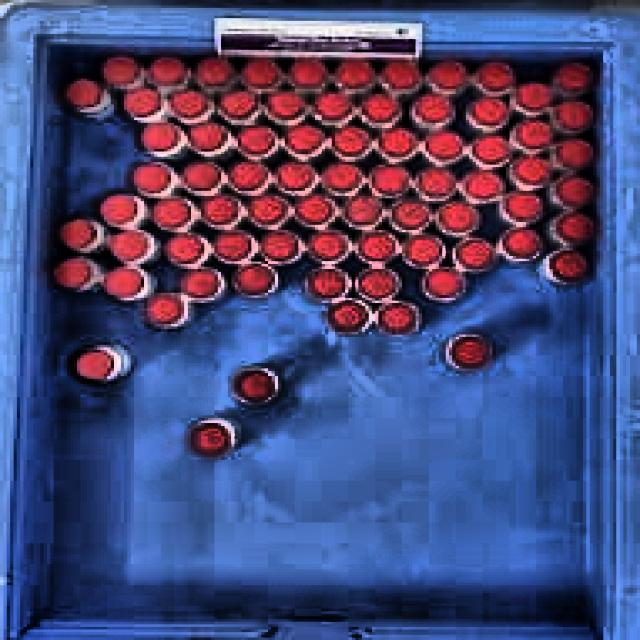vial: (69, 348, 119, 383), (189, 421, 234, 459), (146, 196, 194, 231), (230, 369, 276, 405), (51, 219, 98, 254), (107, 226, 151, 263), (552, 211, 598, 246), (98, 51, 144, 86), (231, 264, 279, 297), (273, 159, 317, 195), (500, 227, 545, 262), (61, 78, 107, 112), (450, 333, 492, 370), (423, 265, 467, 300), (436, 200, 480, 235), (304, 229, 350, 262), (163, 232, 209, 265), (415, 165, 458, 200), (100, 266, 148, 297), (197, 193, 242, 226), (236, 56, 281, 89), (51, 256, 93, 291), (139, 120, 182, 154), (304, 268, 348, 301), (548, 249, 592, 282), (500, 191, 544, 224), (555, 174, 599, 207), (184, 120, 228, 153), (178, 267, 223, 299), (388, 198, 430, 232), (426, 58, 468, 92), (355, 267, 398, 300), (98, 192, 141, 225), (285, 122, 328, 155), (226, 160, 269, 193), (212, 229, 256, 261), (246, 195, 290, 227), (341, 194, 386, 225), (377, 124, 418, 158), (147, 52, 188, 86), (556, 137, 598, 170), (121, 85, 163, 118), (473, 60, 515, 93), (320, 161, 363, 193), (368, 164, 411, 196), (127, 162, 171, 193), (376, 301, 417, 334), (236, 124, 277, 157), (380, 58, 421, 91), (286, 57, 327, 90), (509, 153, 551, 185), (467, 97, 509, 129), (178, 160, 221, 191), (469, 135, 512, 166), (328, 299, 368, 332), (556, 97, 596, 130), (514, 117, 554, 150), (403, 233, 444, 265), (452, 238, 493, 270), (218, 89, 259, 121), (263, 89, 305, 120), (460, 170, 503, 200), (144, 296, 183, 329), (193, 53, 232, 86), (260, 231, 299, 263), (334, 59, 373, 91), (313, 90, 352, 122), (514, 81, 554, 112), (330, 125, 370, 156), (425, 130, 465, 161), (169, 87, 209, 118), (361, 92, 402, 122), (556, 60, 598, 89), (293, 197, 335, 226), (413, 94, 451, 126), (356, 232, 396, 262)
